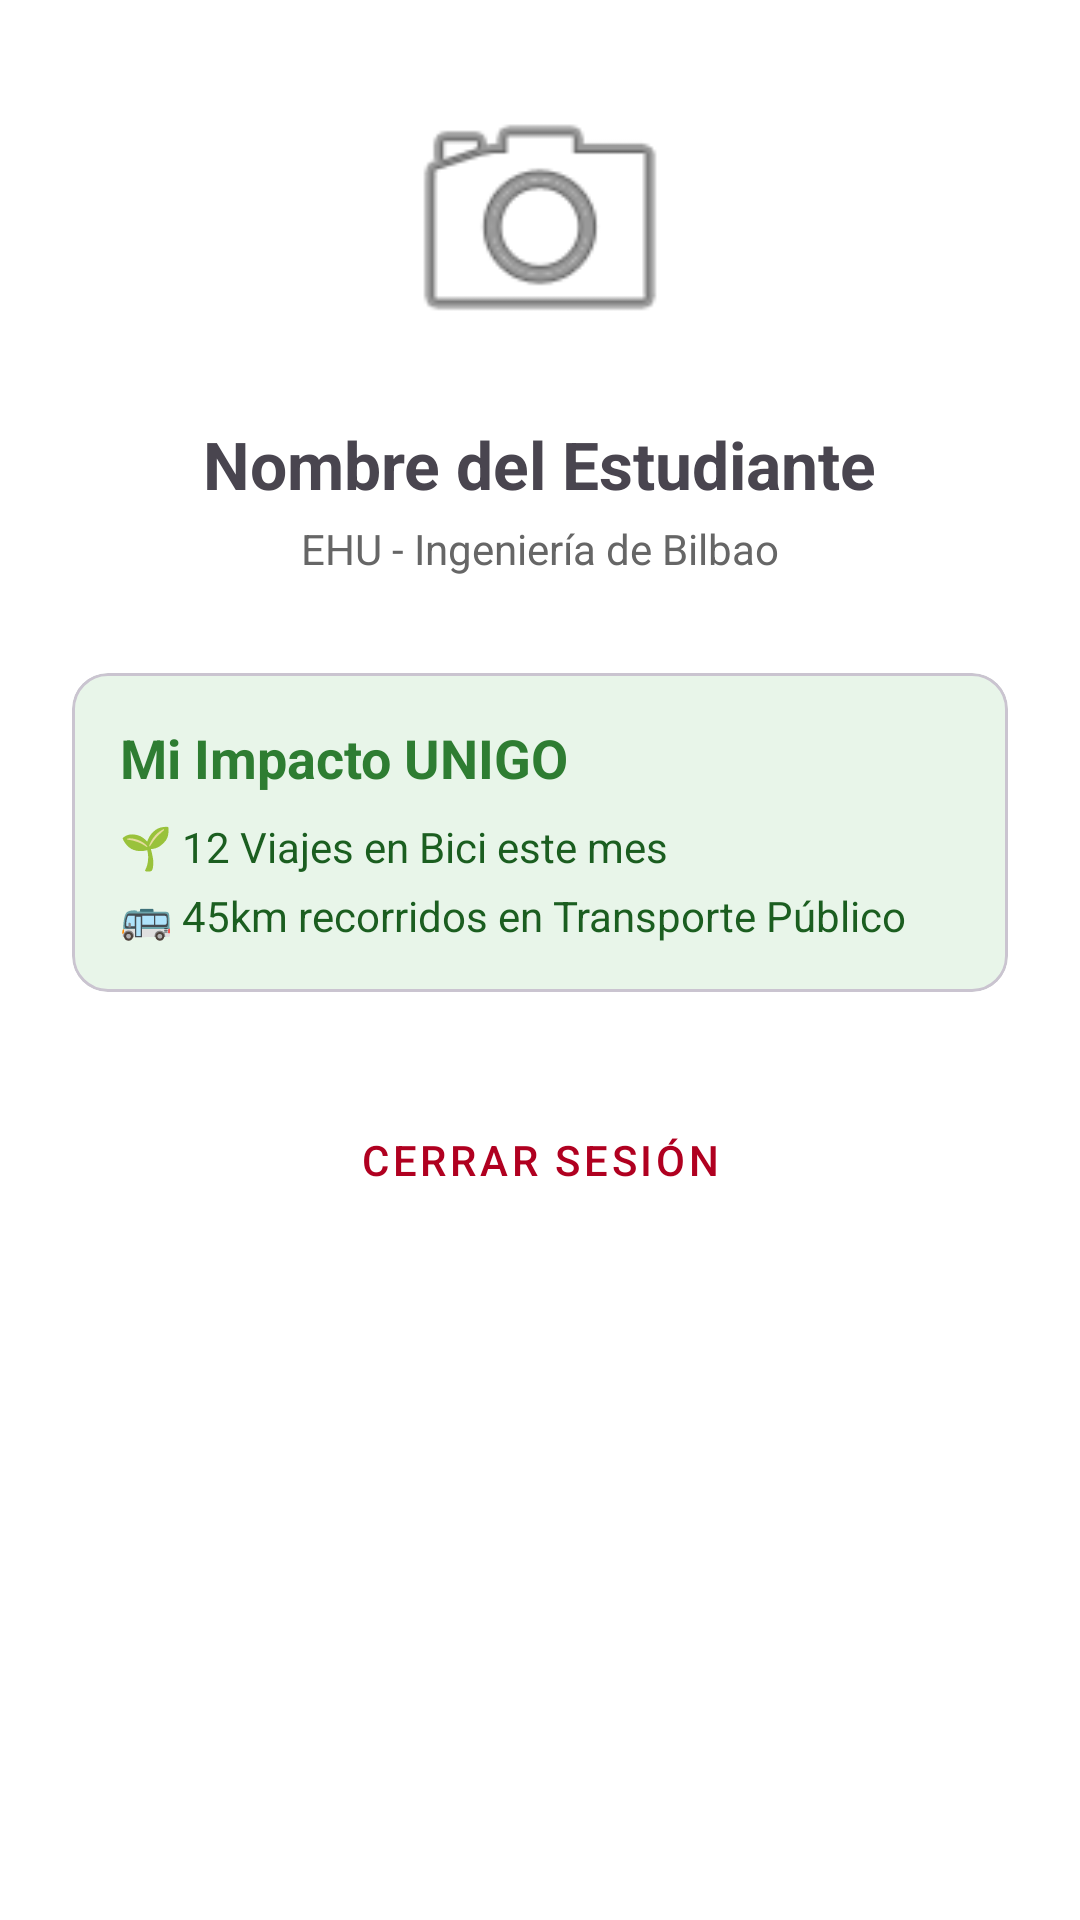

Icon click points for this 1080 x 1920 phone screenshot, format point (x, y):
camera: point (540, 217)
